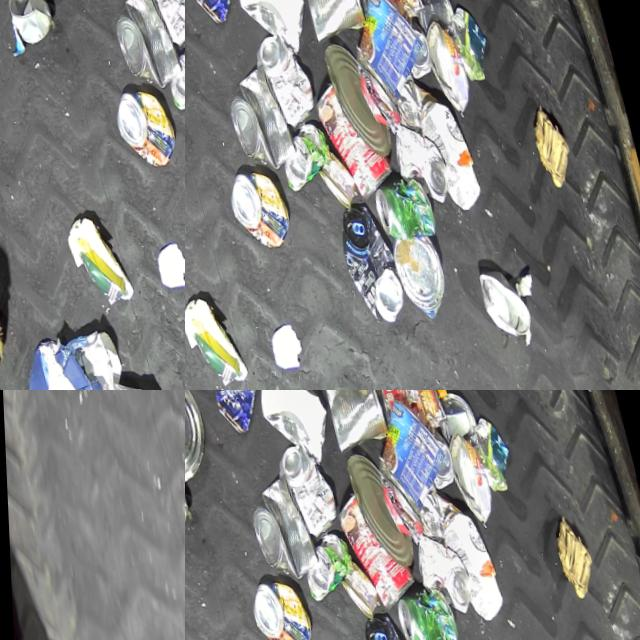can: (358, 390, 455, 516), (308, 68, 397, 200), (330, 478, 419, 610), (336, 0, 433, 106), (330, 194, 408, 324), (217, 54, 299, 172), (239, 464, 321, 582), (320, 30, 393, 157), (342, 440, 415, 567), (103, 0, 185, 91), (250, 24, 319, 128), (272, 434, 341, 538), (107, 79, 180, 171), (221, 160, 294, 252), (385, 109, 452, 205), (407, 519, 474, 615), (386, 225, 452, 318), (420, 10, 473, 110), (442, 420, 495, 520), (242, 569, 315, 640), (367, 167, 435, 241), (472, 254, 533, 336), (272, 113, 335, 191), (294, 523, 357, 601), (388, 576, 457, 640), (318, 390, 391, 450), (311, 141, 359, 208), (333, 551, 381, 618), (207, 390, 274, 437), (368, 390, 447, 429), (185, 390, 215, 490), (351, 603, 430, 640), (296, 0, 369, 40), (397, 9, 434, 74), (419, 419, 456, 484), (0, 0, 56, 42), (431, 390, 479, 438), (135, 0, 185, 46), (158, 32, 185, 109), (185, 0, 252, 27), (346, 0, 425, 19), (409, 0, 457, 28)
